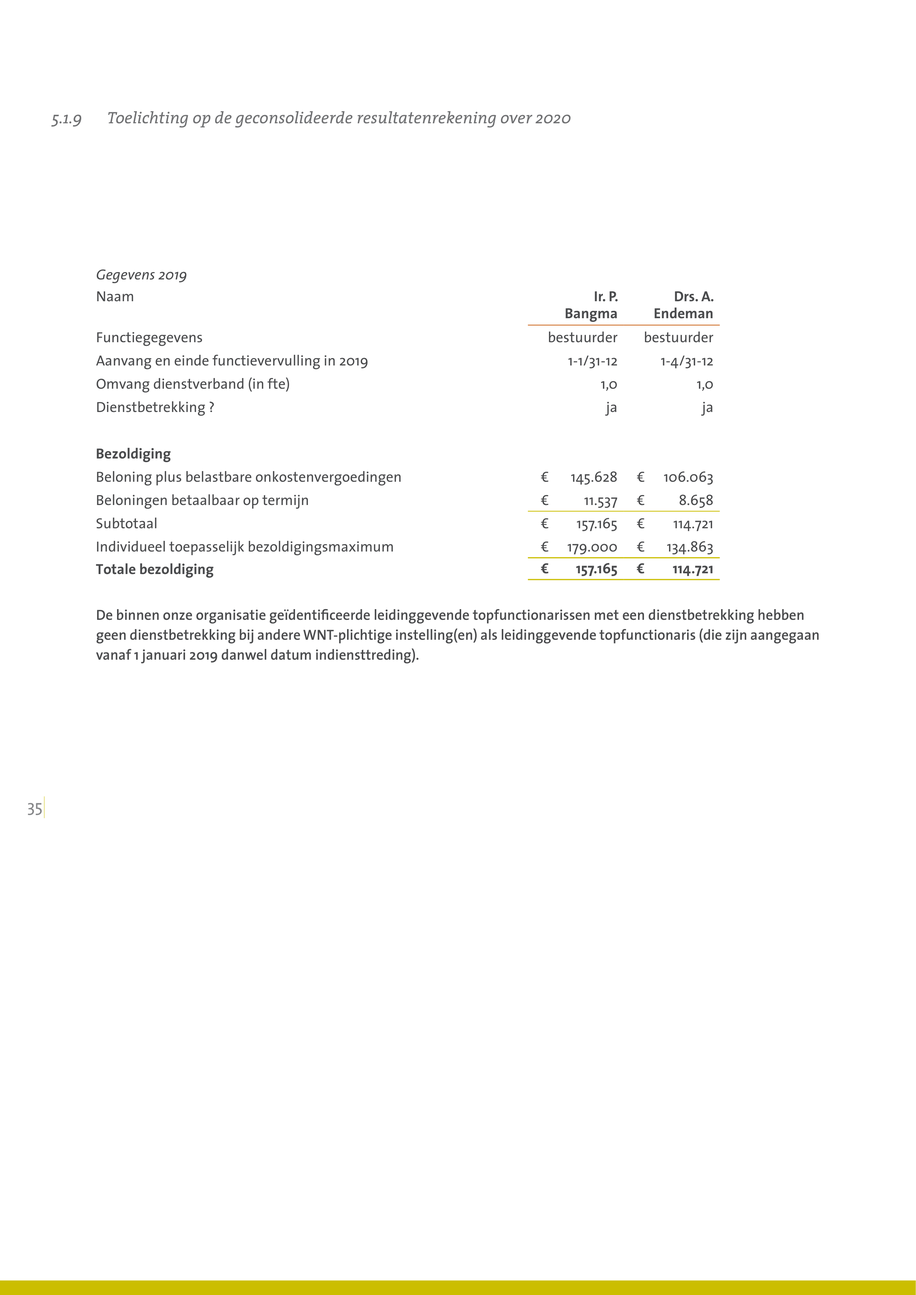coulmn: (80, 263, 414, 590), (515, 281, 632, 586), (631, 284, 716, 591)
